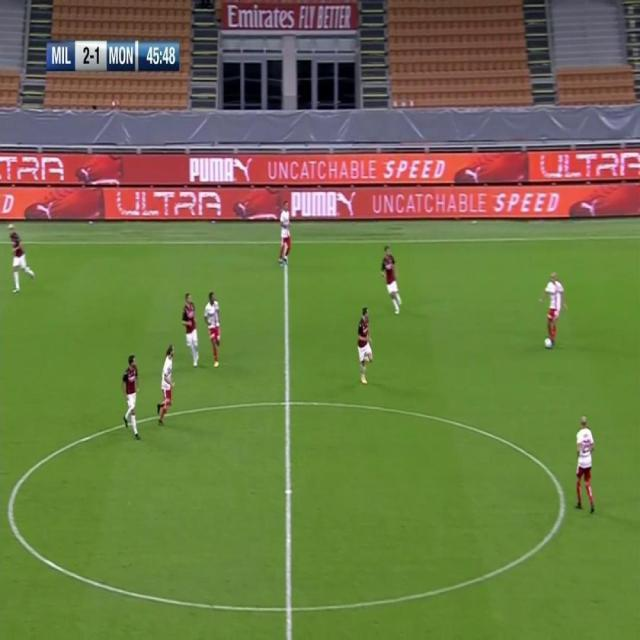ball: (544, 336, 554, 349)
player: (574, 412, 599, 514), (540, 268, 568, 348), (8, 218, 35, 294), (121, 352, 143, 441), (379, 244, 404, 315), (156, 345, 176, 429), (180, 291, 201, 367), (355, 303, 374, 385), (204, 290, 223, 368), (276, 200, 292, 266)
